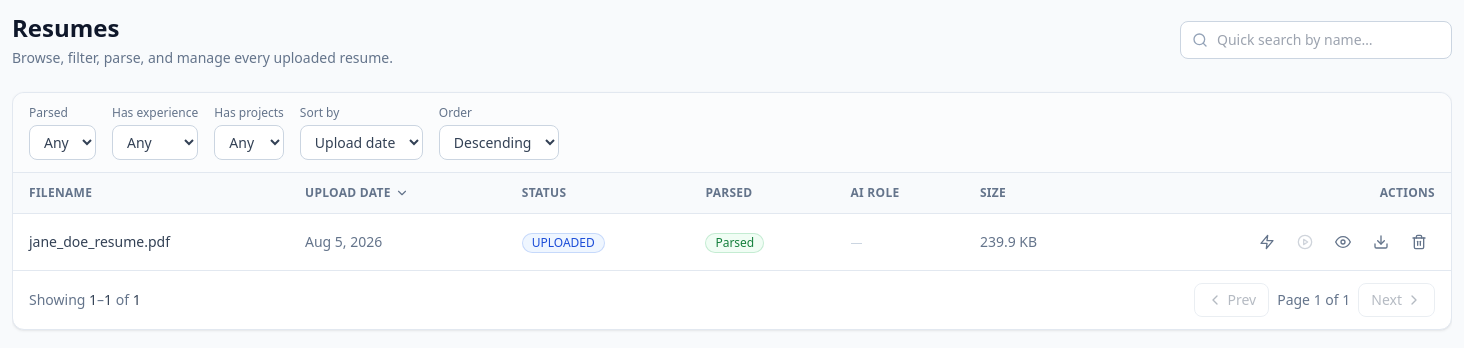
Test: ResumeList › classifies a row and shows the predicted role in the table
expect the text "jane_doe_resume.pdf" is shown: met, box [13,214,289,270]
Click the button titled "classify with ai" at [1267, 242], box [1251,226,1283,258]
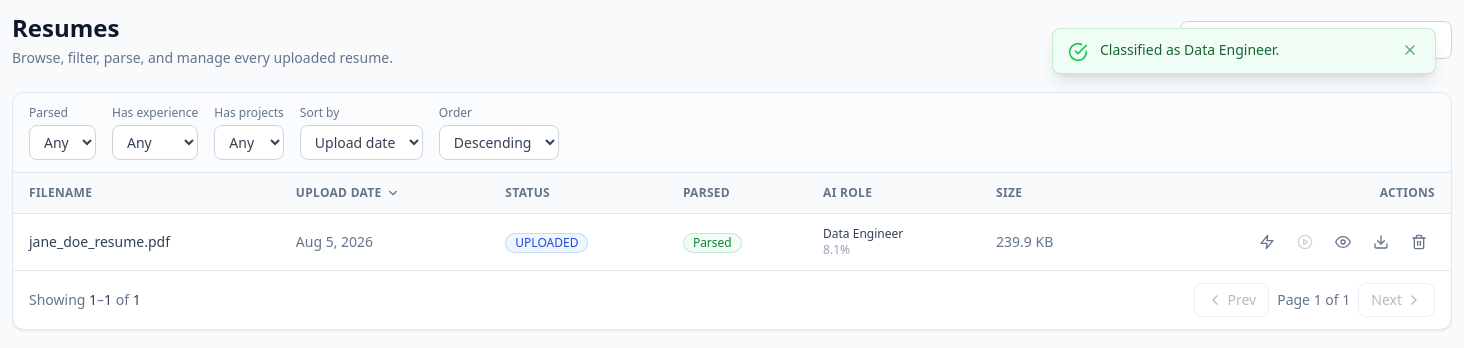
expect the text "Data Engineer" is shown: met, box [823,225,903,242]
expect the text "8.1%" is shown: met, box [823,241,850,258]
